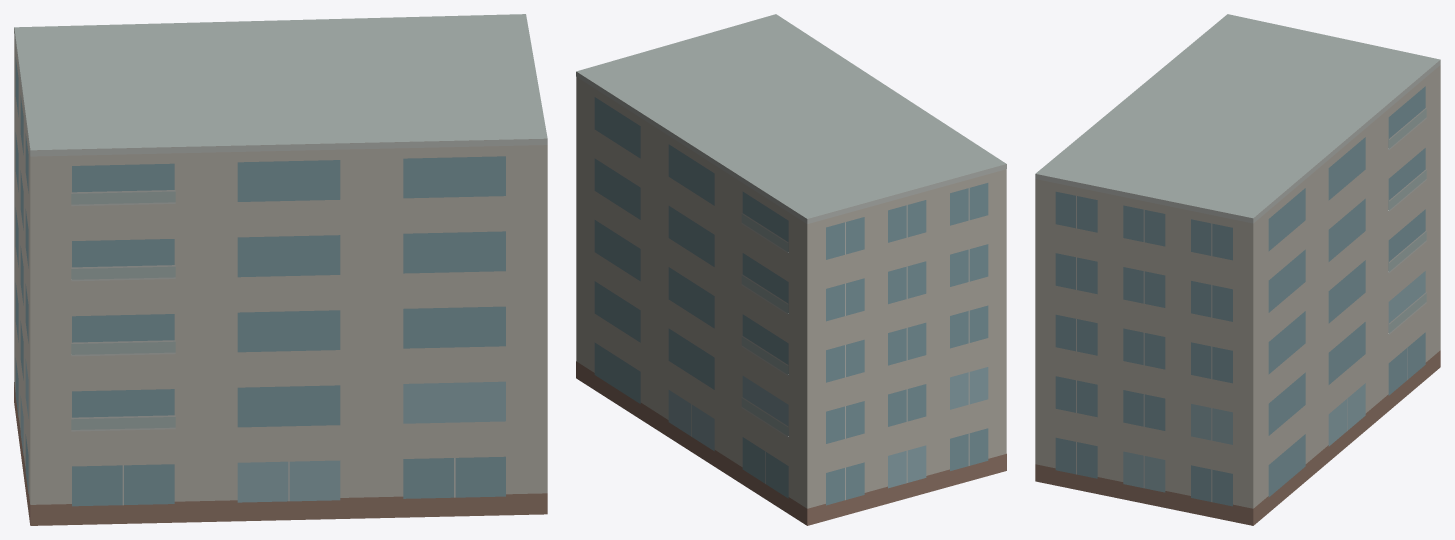
The model's file is survey-upis-32944694.glb.
3 views of the same model, side by side, from view 1: azimuth 30°, elevation 25°; view 2: azimuth 150°, elevation 25°; view 3: azimuth 270°, elevation 25° (orthographic). The views are drawn at different scales.
Visible parts, largest first — view 1: survey-upis-32944694.tmp; view 2: survey-upis-32944694.tmp; view 3: survey-upis-32944694.tmp.
Boxes of the visible parts, box(x1,y1,x2,y2) form: survey-upis-32944694.tmp: box(14, 14, 547, 525); survey-upis-32944694.tmp: box(576, 14, 1006, 525); survey-upis-32944694.tmp: box(1035, 14, 1440, 525).
Size of the model in its own units: 20.53 by 14.4 by 17.21.
